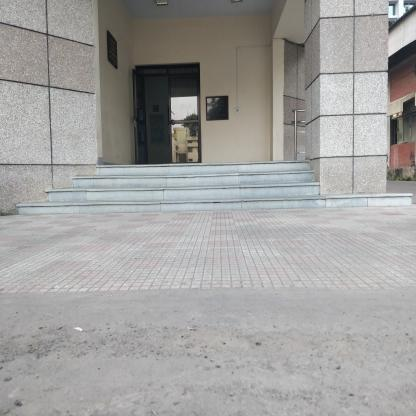stairs: (103, 162, 313, 216)
